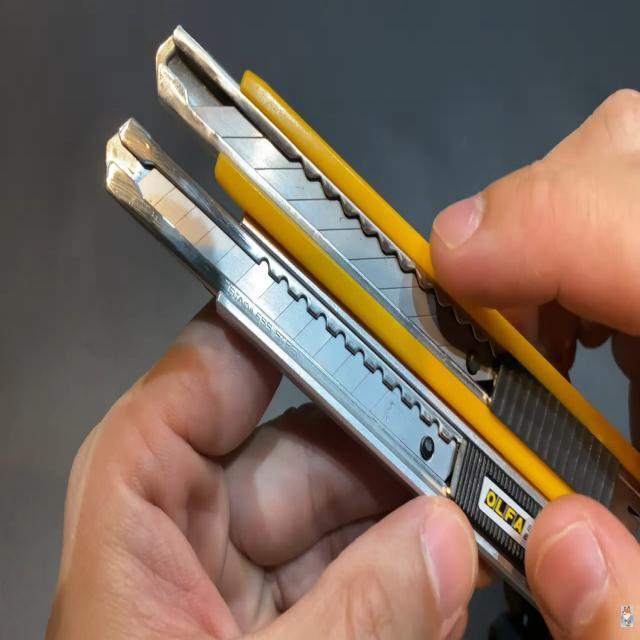cutter: (75, 1, 640, 640)
